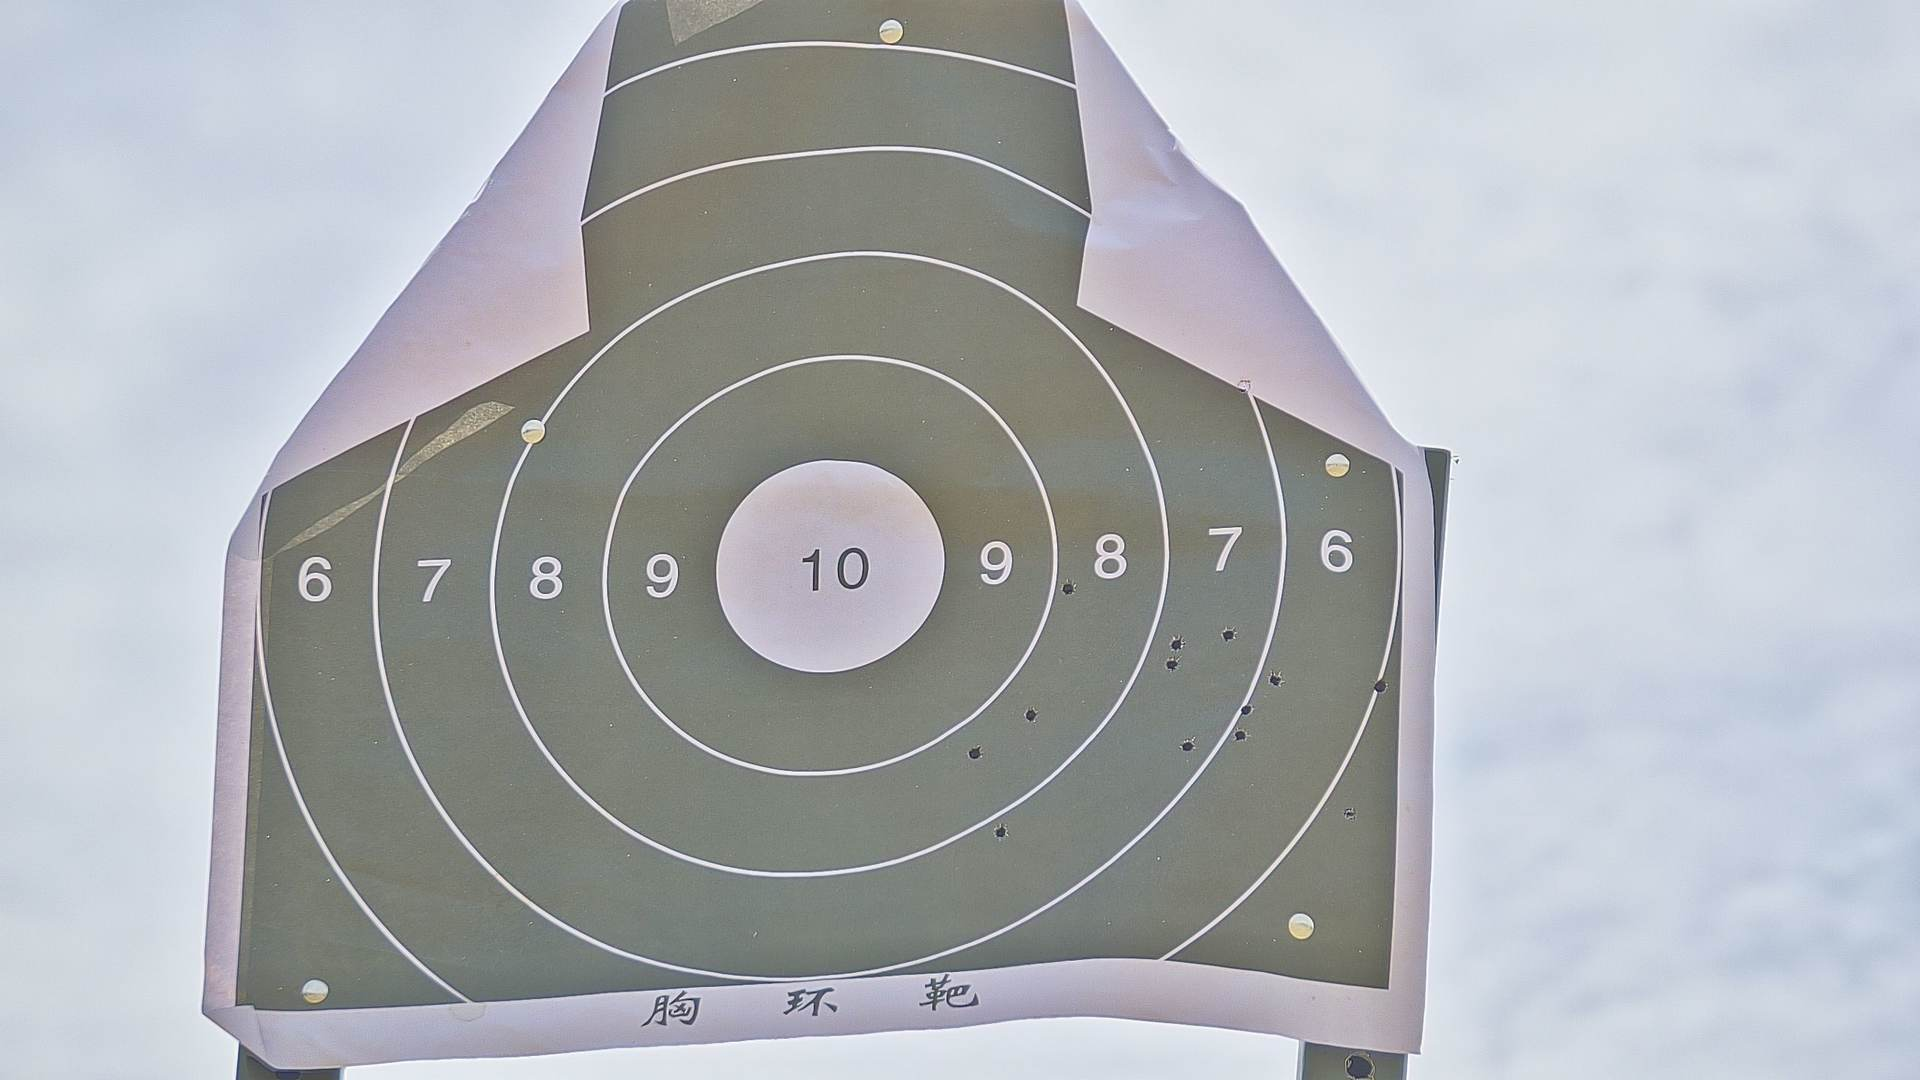hole: (1220, 628, 1238, 641), (1374, 679, 1389, 694), (1170, 638, 1184, 651), (1270, 673, 1284, 686), (1182, 738, 1195, 752), (1234, 729, 1247, 742), (1342, 806, 1356, 819), (1062, 582, 1076, 593), (1025, 708, 1036, 723), (968, 746, 982, 758), (993, 825, 1007, 837), (1166, 658, 1180, 670), (1241, 704, 1253, 713)
kernel: (828, 568, 837, 572)
target: (233, 7, 1407, 1009)
ten: (712, 455, 945, 676)
